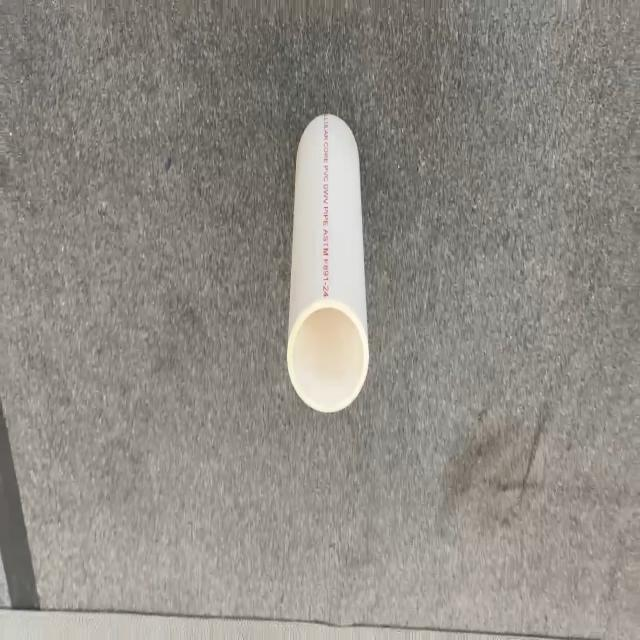coral: (286, 111, 370, 413)
